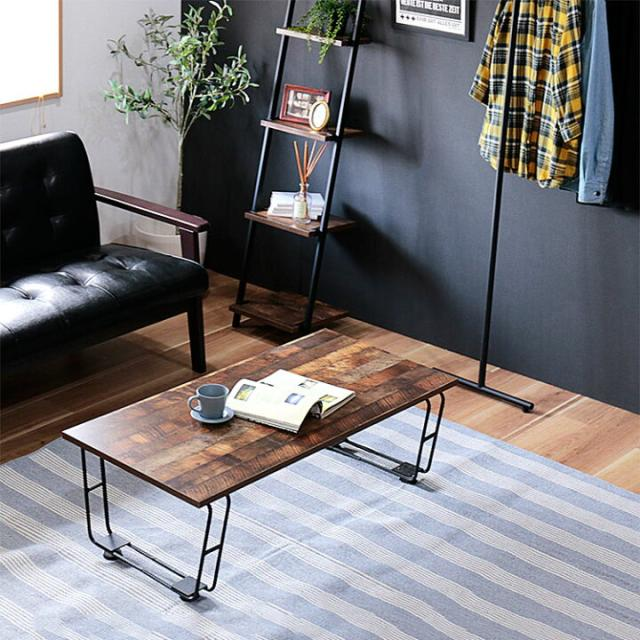vintage chair: (0, 110, 213, 372)
vintage desk: (57, 323, 459, 602)
